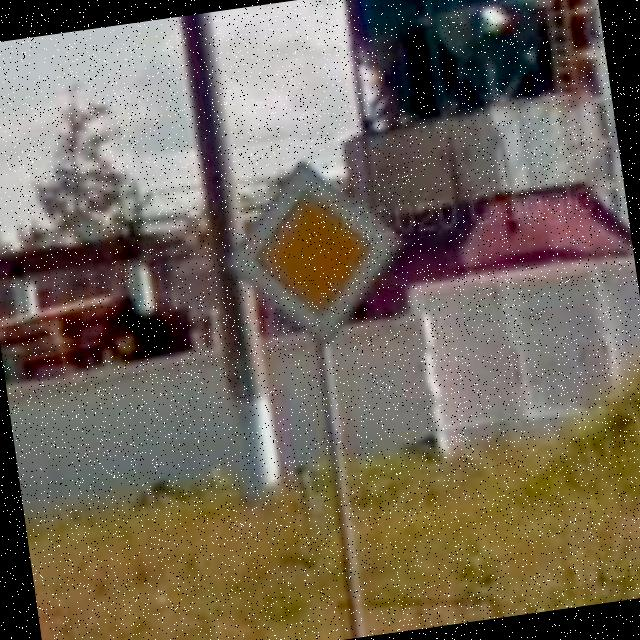Droga z pierwszenstwem: (215, 147, 413, 357)
